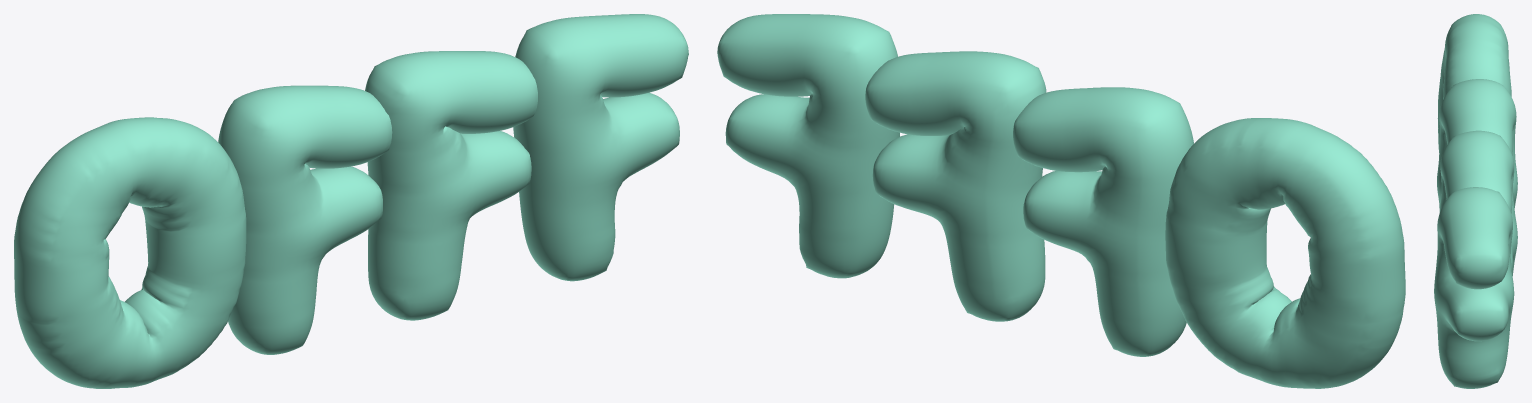
File: OFFF.glb
3 views of the same model, side by side, from view 1: azimuth 30°, elevation 25°; view 2: azimuth 150°, elevation 25°; view 3: azimuth 270°, elevation 25° (orthographic). The views are drawn at different scales.
Parts seen in each view (by area): view 1: Text; view 2: Text; view 3: Text.
Boxes of the visible parts, x1,y1,x2,y2 form: Text: (14,14,688,388); Text: (717,14,1405,388); Text: (1434,14,1517,388).
Bounding box in the file's own units: 2.25 × 0.8456 × 0.3239.
